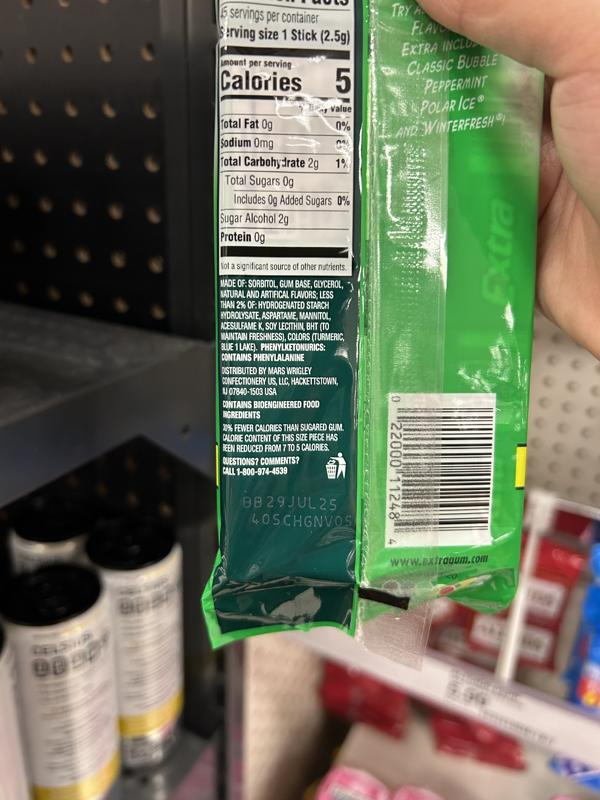ingredients: (219, 277, 347, 364)
